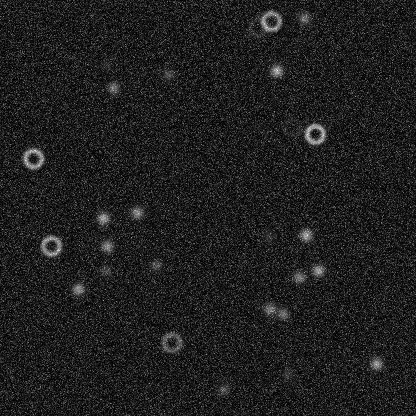Ring: (21, 146, 45, 170), (302, 121, 326, 145), (245, 14, 269, 38), (159, 330, 183, 354), (280, 115, 304, 139), (39, 233, 63, 257), (259, 9, 283, 33)
Spot: (95, 210, 111, 226), (260, 227, 276, 243), (159, 66, 175, 82), (97, 262, 113, 278), (261, 301, 277, 317), (70, 281, 86, 297), (105, 79, 121, 95), (128, 204, 144, 220), (99, 237, 115, 253), (279, 365, 295, 381), (274, 305, 290, 321), (291, 268, 307, 284), (97, 56, 113, 72), (297, 227, 313, 243), (295, 10, 311, 26), (148, 257, 164, 273), (368, 355, 384, 371), (215, 380, 231, 396), (310, 262, 326, 278), (268, 62, 284, 78)
